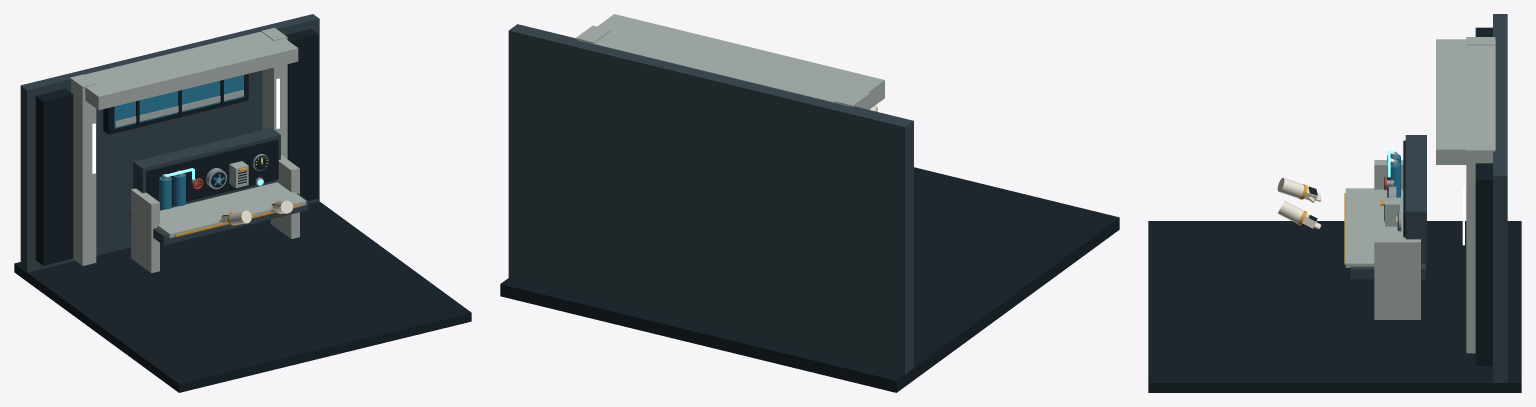
File: 01-life-support.glb
3 views of the same model, side by side, from view 1: azimuth 30°, elevation 25°; view 2: azimuth 150°, elevation 25°; view 3: azimuth 270°, elevation 25° (orthographic). The views are drawn at different scales.
Parts seen in each view (by area): view 1: floor, aft-bulkhead, wall-recess (×2), ceiling-bulkhead, column (×2), instrument-face, control-surface, side-console (×2), instrument-housing, outside-color, window-frame, center-desk (+4 smaller); view 2: aft-bulkhead, floor, ceiling-bulkhead; view 3: floor, ceiling-bulkhead, aft-bulkhead, side-console (×2), wall-recess, control-surface, column, instrument-housing, sleeve (×2), center-desk, cartridge.
Part boxes in pixels (x1,y1,x2,y2): floor: [14, 201, 471, 392]; aft-bulkhead: [20, 14, 319, 272]; wall-recess (×2): [35, 29, 318, 265]; ceiling-bulkhead: [84, 31, 298, 110]; column (×2): [70, 27, 287, 265]; instrument-face: [146, 139, 278, 205]; control-surface: [157, 182, 306, 237]; side-console (×2): [131, 155, 299, 273]; instrument-housing: [133, 128, 280, 210]; outside-color: [114, 75, 243, 128]; window-frame: [103, 74, 248, 134]; center-desk: [130, 193, 308, 245]; aft-bulkhead: [508, 24, 913, 374]; floor: [500, 167, 1119, 392]; ceiling-bulkhead: [578, 14, 884, 108]; floor: [1148, 221, 1521, 392]; ceiling-bulkhead: [1436, 39, 1495, 164]; aft-bulkhead: [1493, 14, 1507, 382]; side-console (×2): [1374, 160, 1420, 319]; wall-recess: [1475, 163, 1492, 366]; control-surface: [1345, 188, 1403, 267]; column: [1466, 142, 1495, 353]; instrument-housing: [1405, 135, 1426, 263]; sleeve (×2): [1277, 178, 1304, 223]; center-desk: [1350, 264, 1425, 279]; cartridge: [1385, 197, 1399, 226].
Bounding box in the file's own units: 4.1 × 2.58 × 4.
